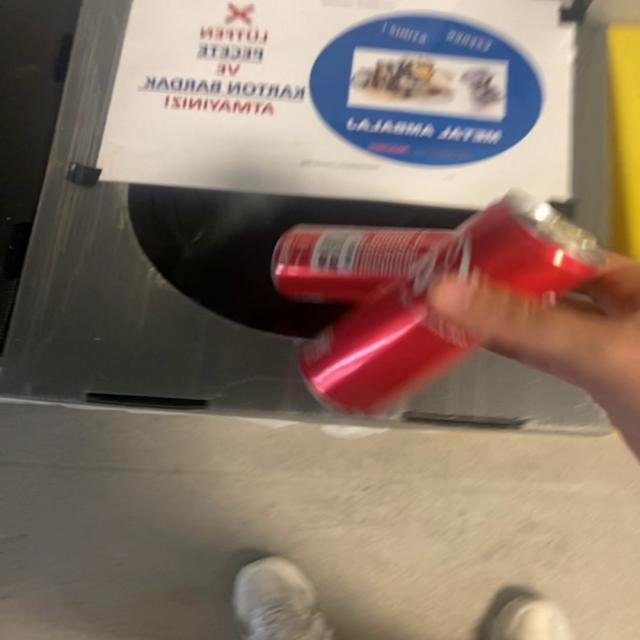Bin: (2, 0, 607, 421), (389, 354, 607, 432)
Metal: (273, 190, 606, 412)
